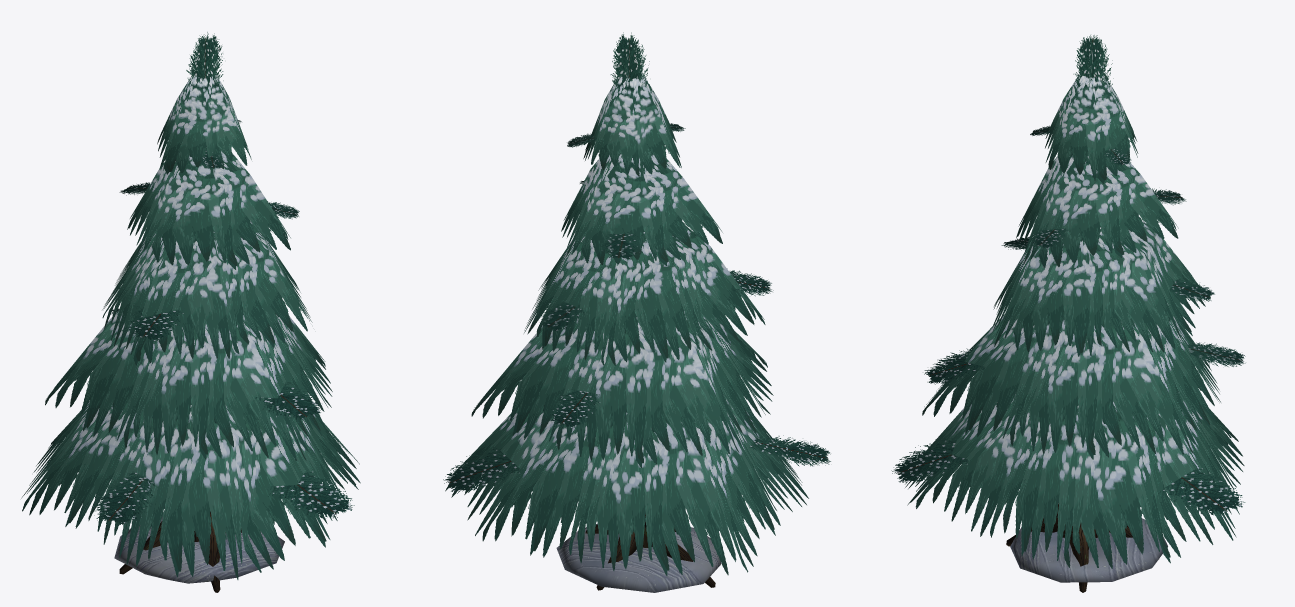
Rendered from rimeshore_pine_a.glb.
The picture shows the model from 3 angles, left to right: view 1: azimuth 30°, elevation 25°; view 2: azimuth 150°, elevation 25°; view 3: azimuth 270°, elevation 25°; orthographic projection. The views are drawn at different scales.
Parts seen in each view (by area): view 1: rimeshore_pine_a; view 2: rimeshore_pine_a; view 3: rimeshore_pine_a.
Boxes of the visible parts, x1,y1,x2,y2 form: rimeshore_pine_a: [21, 32, 360, 592]; rimeshore_pine_a: [443, 32, 830, 592]; rimeshore_pine_a: [891, 35, 1245, 592].
Size of the model in its own units: 3.33 by 5.06 by 3.53.
Materials: 3 (3 with a texture image).
